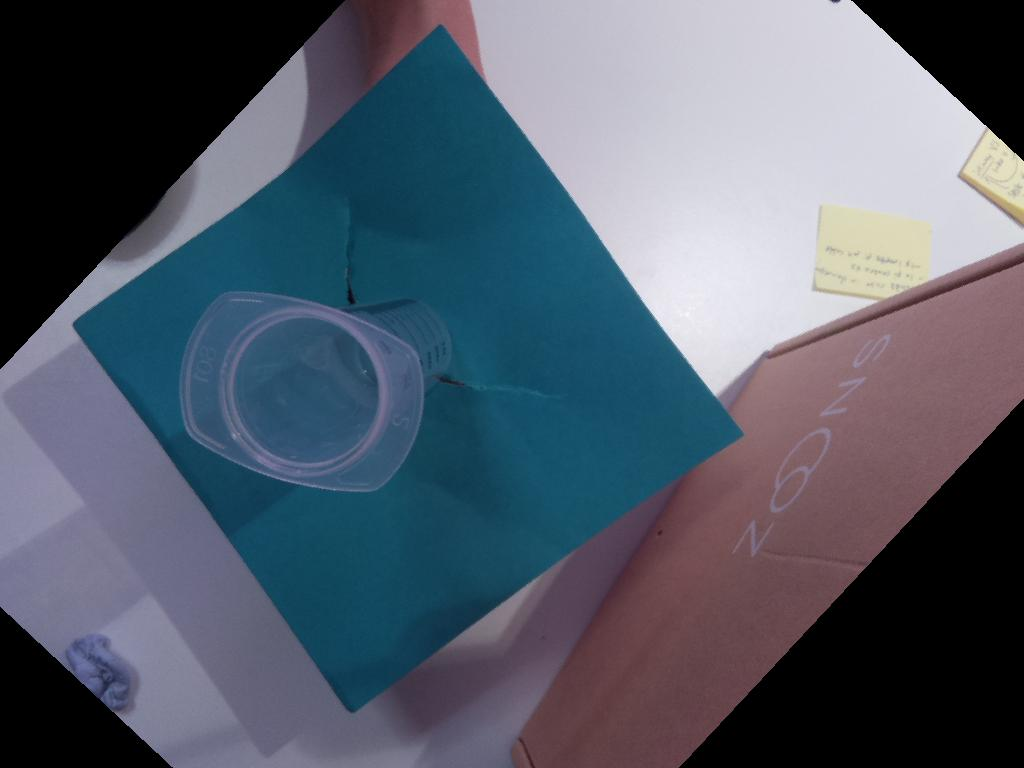clean: (179, 288, 431, 495)
